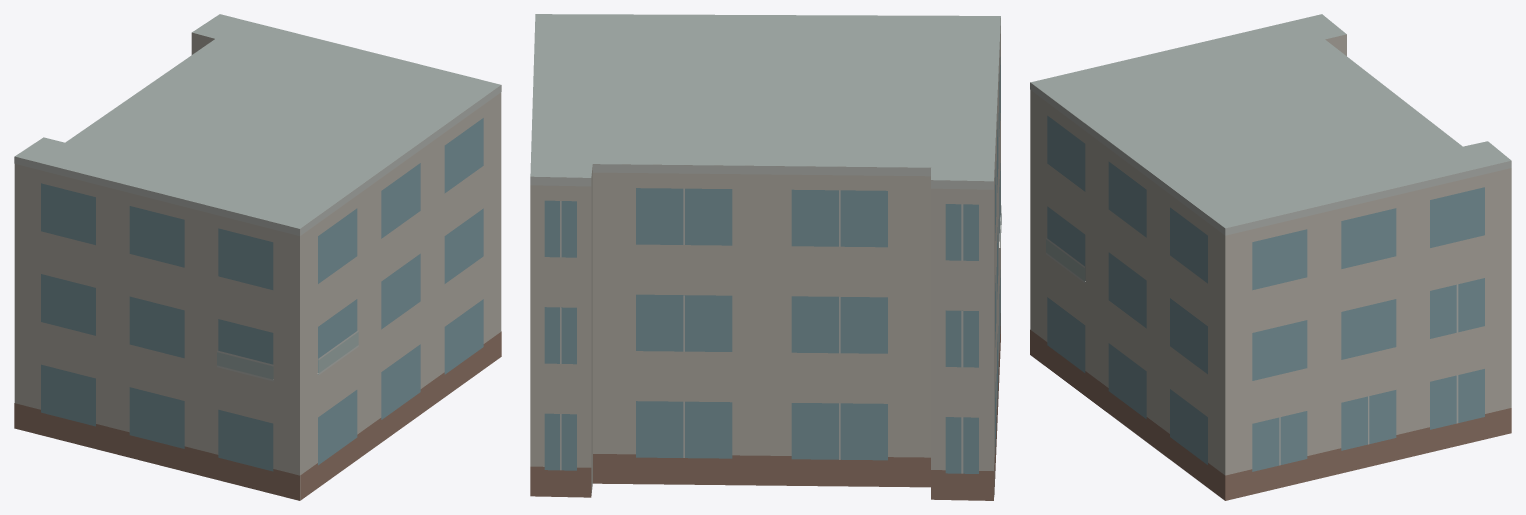
File: survey-upis-33037368.glb
3 renders of one model, left to right at view 1: azimuth 30°, elevation 25°; view 2: azimuth 150°, elevation 25°; view 3: azimuth 270°, elevation 25°, orthographic. The views are drawn at different scales.
Visible parts, largest first — view 1: survey-upis-33037368.tmp; view 2: survey-upis-33037368.tmp; view 3: survey-upis-33037368.tmp.
Boxes of the visible parts, x1=… form: survey-upis-33037368.tmp: x1=14, y1=14, x2=501, y2=500; survey-upis-33037368.tmp: x1=530, y1=14, x2=1001, y2=500; survey-upis-33037368.tmp: x1=1030, y1=14, x2=1511, y2=500.
Bounding box in the file's own units: 15.45 × 9.15 × 14.66.
